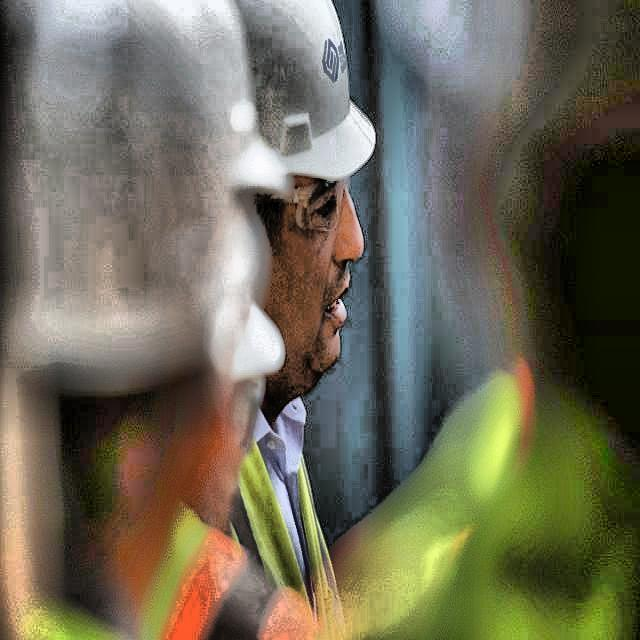safety_jacket: (156, 518, 321, 640)
